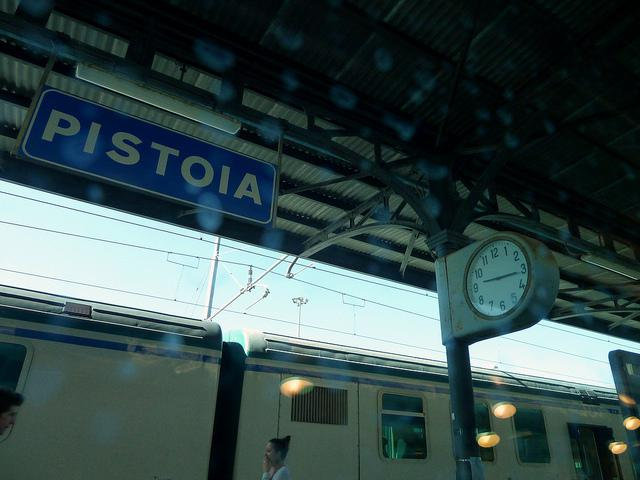Train: (0, 285, 639, 480)
